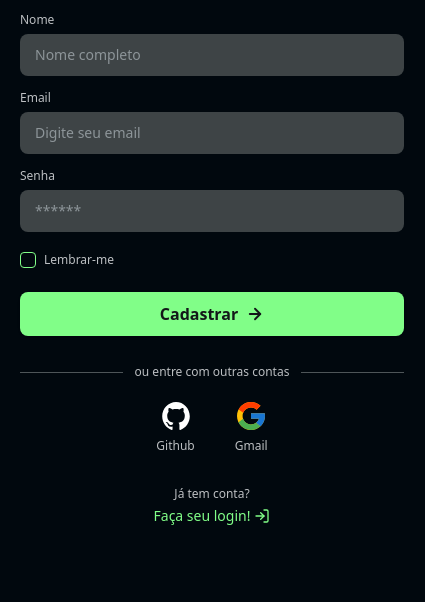
Test case: RegisterForm organism › shows validation error messages when submitted empty or with invalid data
The image size is (425, 602).
Click the button "Cadastrar" at point(212, 314), box x1=20 y1=292 x2=404 y2=336
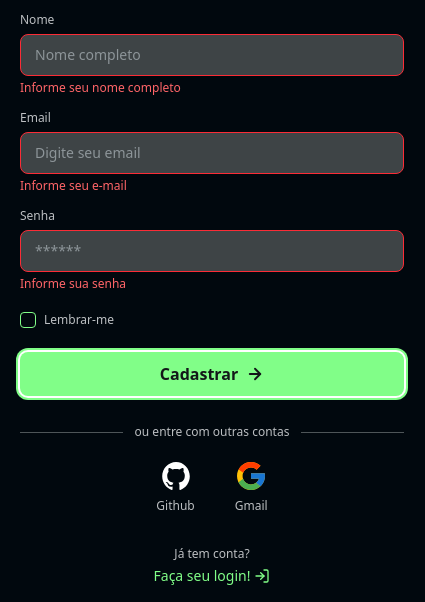
Now the text "Informe seu nome completo" is shown, box x1=20 y1=79 x2=181 y2=96
Now the text "Informe seu e-mail" is shown, box x1=20 y1=177 x2=127 y2=194
Now the text "Informe sua senha" is shown, box x1=20 y1=275 x2=126 y2=292
